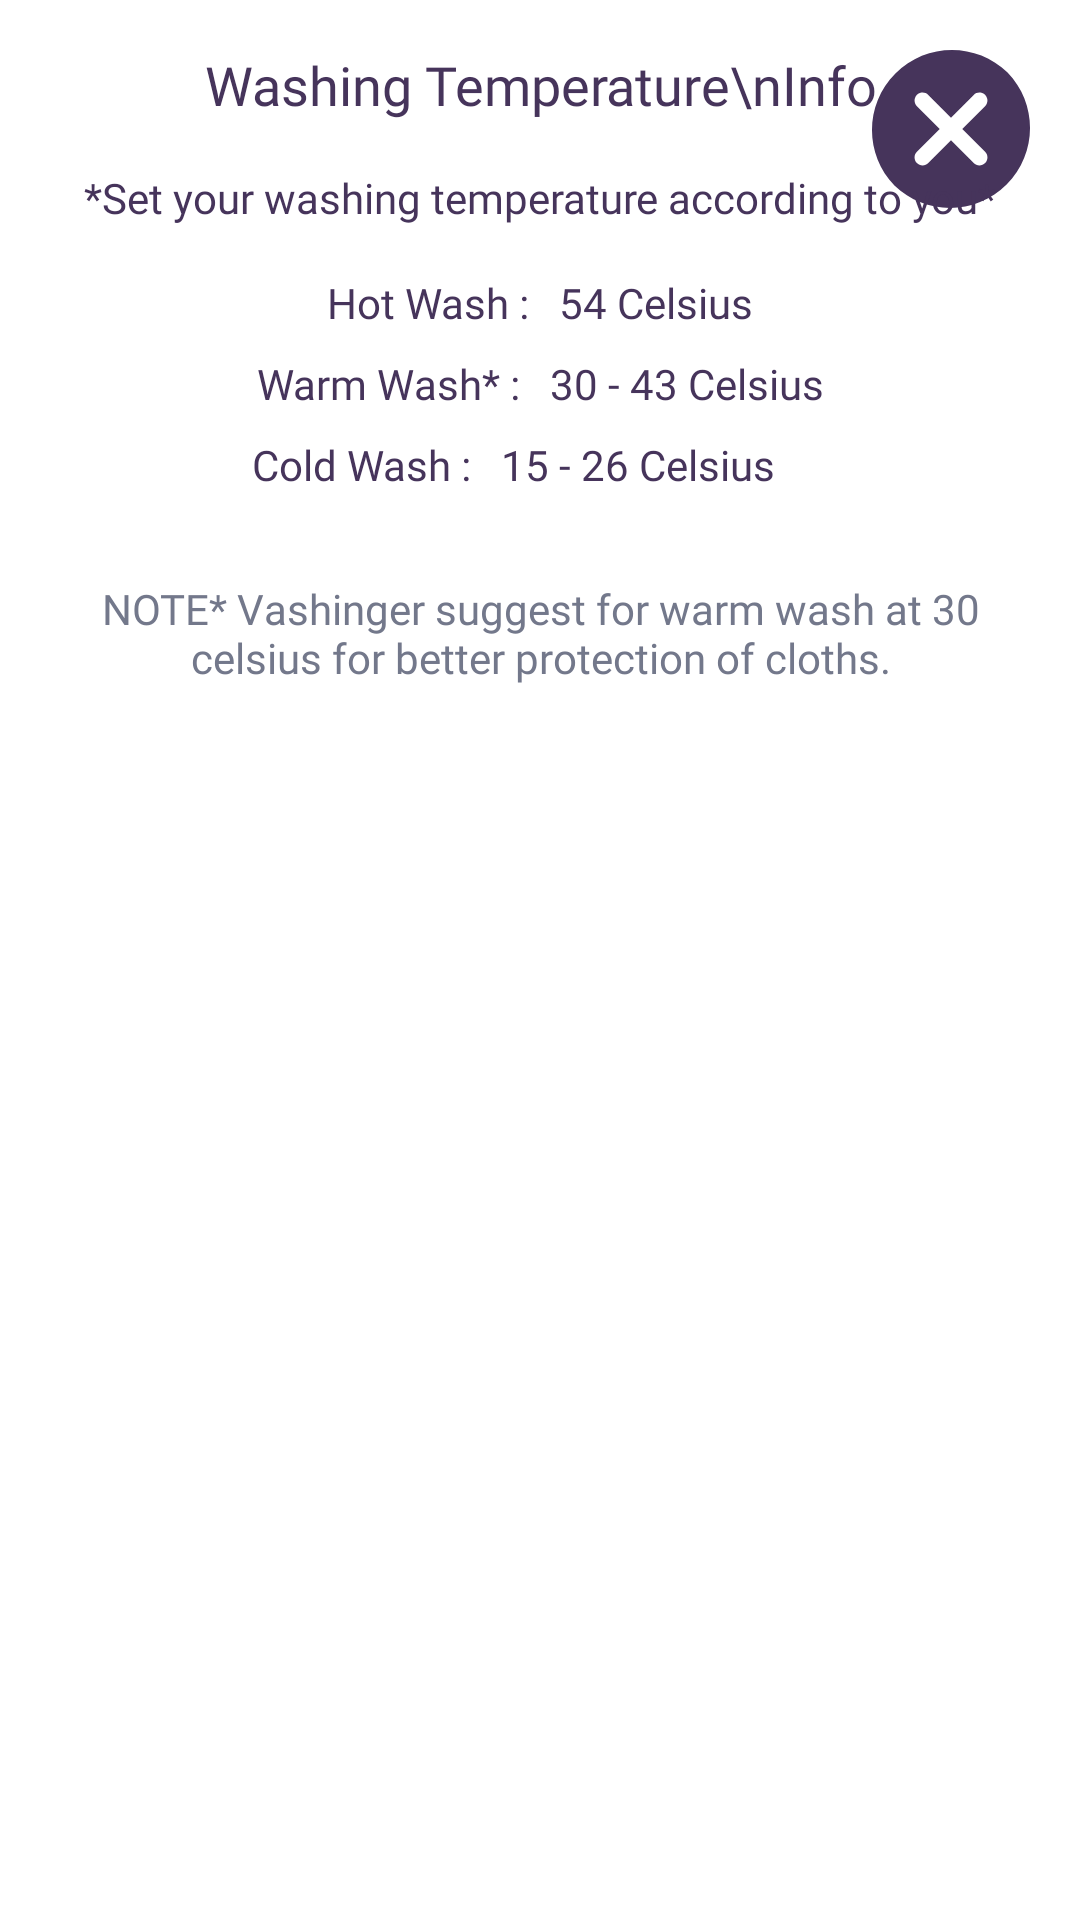

Icons on this 1080 x 1920 Android screen, each with the point to tap as (x,y):
close: (950,130)
